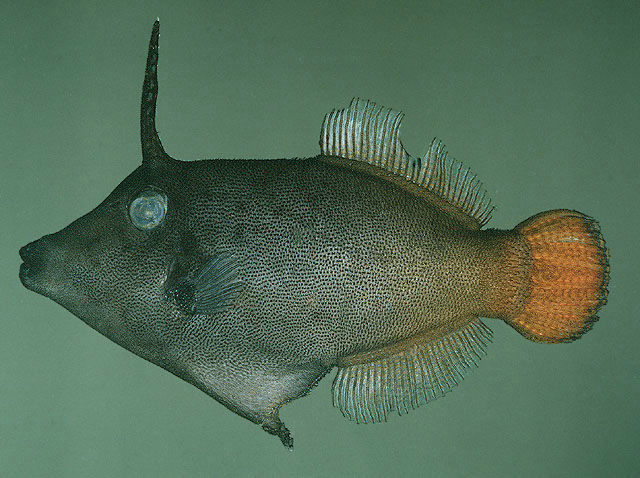fish: (18, 17, 613, 452)
